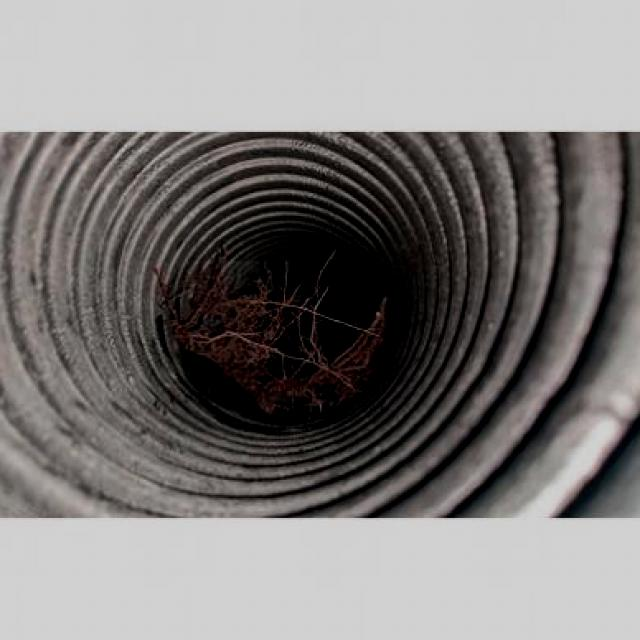root: (162, 262, 383, 411)
